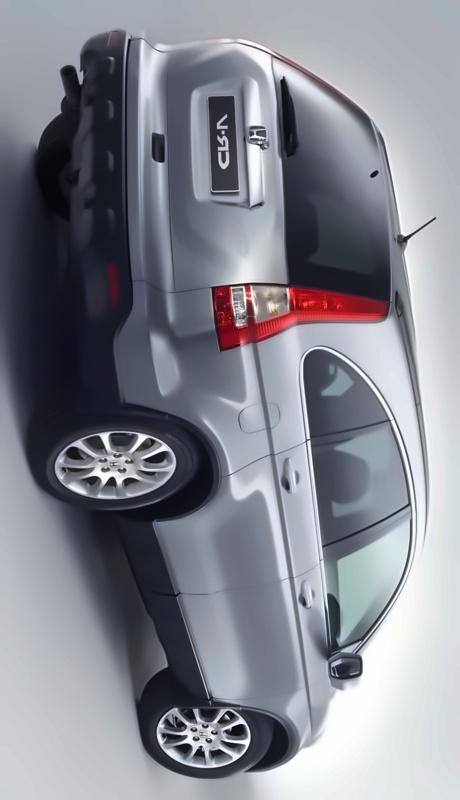Car boot: (122, 33, 402, 304)
Driver-s door - -F-R-: (173, 519, 424, 692)
Fender - -F-R-: (172, 687, 331, 760)
Fender - -R-R-: (164, 322, 328, 480)
Passenger-s door - -R-R-: (150, 419, 422, 600)
Rear bumper: (63, 24, 205, 405)
Rear light - -R-: (209, 274, 398, 355)
Side bumper - -R-: (99, 503, 219, 709)
Side mirror - -R-: (324, 643, 373, 704)
